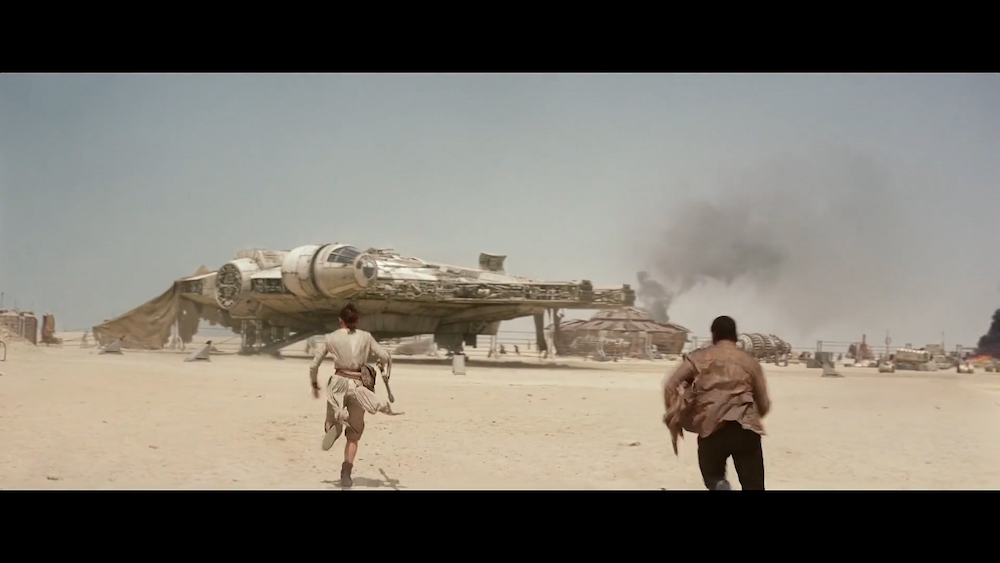Millennium Falcon: (177, 245, 635, 337)
